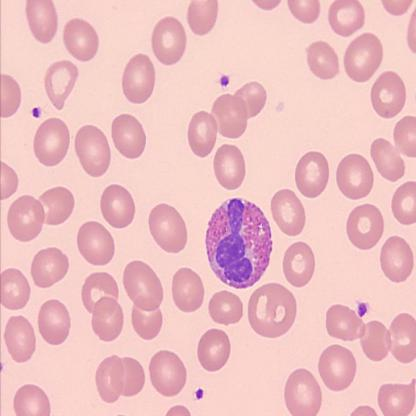Eosinophil: (203, 196, 273, 291)
